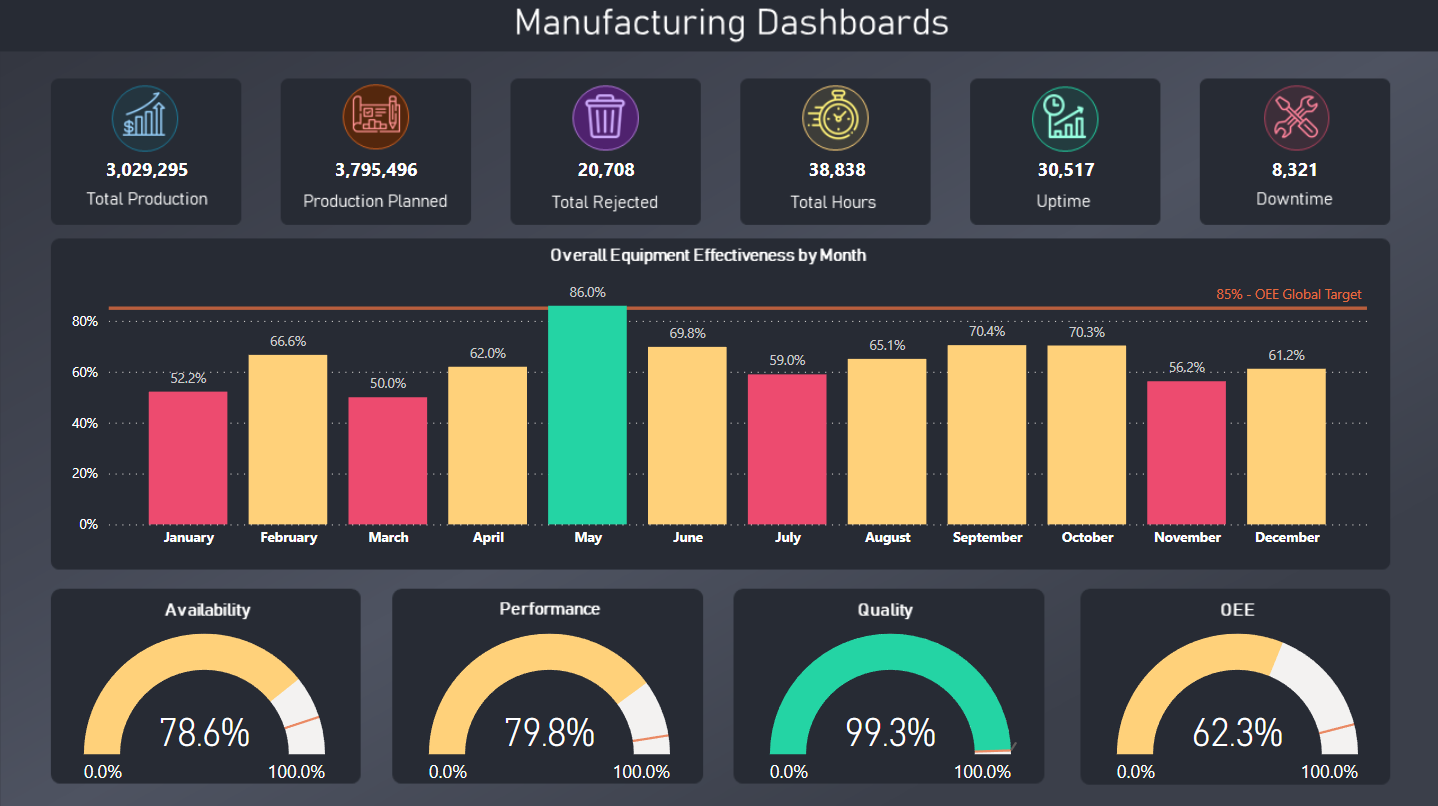

The dashboard page shown, as its layout file describes it:
{"tool":"powerbi","page":{"name":"Production dashboard","canvas":[1280,720],"ordinal":0},"visuals":[{"type":"card","fields":{"Values":["Measures (2).Total Produced"]},"box":[50,136.4,161.8,30.9],"z":0},{"type":"gauge","fields":{"Y":["Measures (2).Availability"]},"box":[43.6,557.3,276.4,148.2],"z":1000},{"type":"gauge","fields":{"Y":["Measures (2).Performance"]},"box":[350,557.3,276.4,148.2],"z":2000},{"type":"gauge","fields":{"Y":["Measures (2).Quality"]},"box":[652.7,557.3,276.4,148.2],"z":3000},{"type":"gauge","fields":{"Y":["Measures (2).Overall Equipment Effectiviness"]},"box":[960.9,557.3,276.4,148.2],"z":4000},{"type":"card","fields":{"Values":["Measures (2).Total Theoretical Produced"]},"box":[252.7,136.4,161.8,30.9],"z":5000},{"type":"card","fields":{"Values":["Measures (2).Total Rejected"]},"box":[457.3,136.4,161.8,30.9],"z":6000},{"type":"card","fields":{"Values":["Measures (2).Total Hours"]},"box":[662.7,136.4,161.8,30.9],"z":7000},{"type":"card","fields":{"Values":["Measures (2).Productive hours"]},"box":[865.5,136.4,161.8,30.9],"z":8000},{"type":"card","fields":{"Values":["Measures (2).Downtime"]},"box":[1069.1,136.4,161.8,30.9],"z":9000},{"type":"clusteredColumnChart","fields":{"Category":["Production.Started_Date.Variation.Date Hierarchy.Month"],"Y":["Measures (2).Overall Equipment Effectiviness"]},"box":[58.8,232.5,1160,262.5],"z":10000}]}

Visuals, with their boxes in screenshot pixels (x1, y1, x2, y2), scaled from the page's 1280x720 canvas onto the 1438x806 screenshot:
card - Measures (2).Total Produced: rect(56, 153, 238, 187)
gauge - Measures (2).Availability: rect(49, 624, 360, 790)
gauge - Measures (2).Performance: rect(393, 624, 704, 790)
gauge - Measures (2).Quality: rect(733, 624, 1044, 790)
gauge - Measures (2).Overall Equipment Effectiviness: rect(1080, 624, 1390, 790)
card - Measures (2).Total Theoretical Produced: rect(284, 153, 466, 187)
card - Measures (2).Total Rejected: rect(514, 153, 696, 187)
card - Measures (2).Total Hours: rect(745, 153, 926, 187)
card - Measures (2).Productive hours: rect(972, 153, 1154, 187)
card - Measures (2).Downtime: rect(1201, 153, 1383, 187)
clusteredColumnChart - Production.Started_Date.Variation.Date Hierarchy.Month x Measures (2).Overall Equipment Effectiviness: rect(66, 260, 1369, 554)
